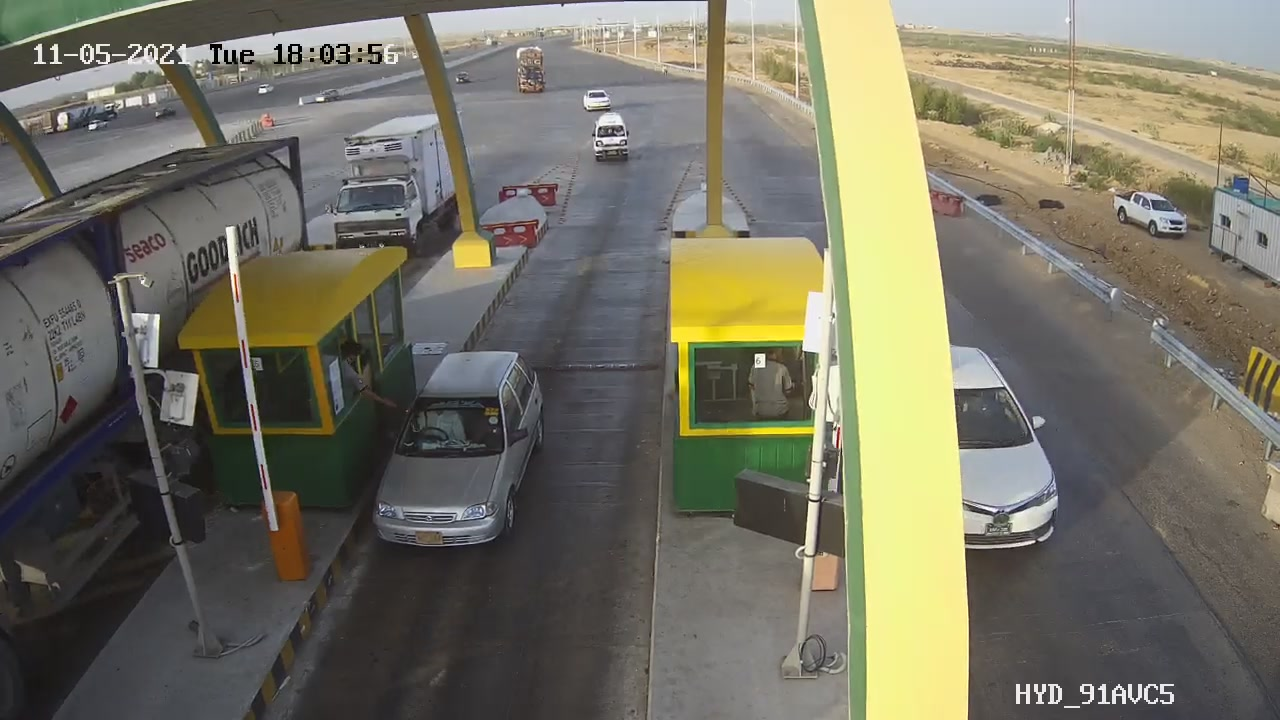F1: (363, 329, 561, 572)
